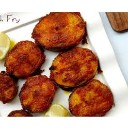seerfish: (29, 12, 85, 48), (53, 49, 98, 89), (72, 80, 114, 116), (18, 75, 53, 113), (4, 41, 40, 75)
